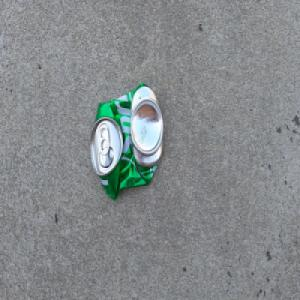SodaCan: (89, 81, 164, 201)
